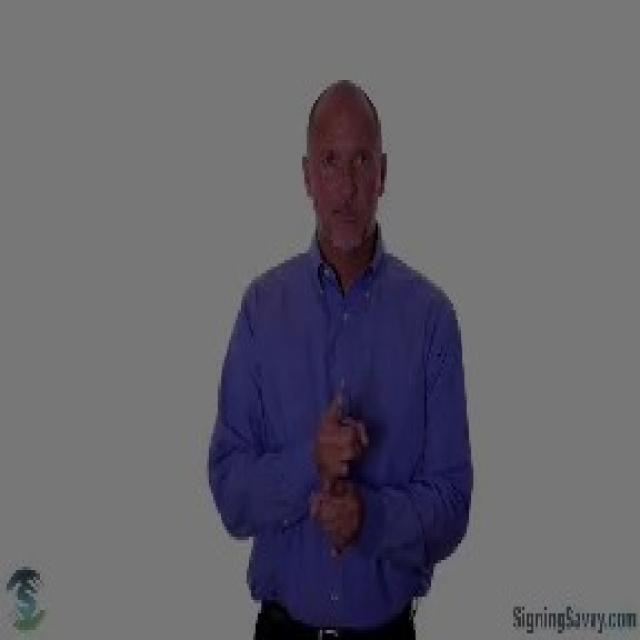alcohol: (308, 372, 368, 568)
